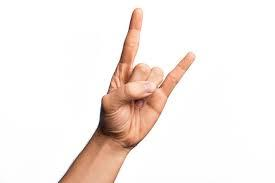Rock: (100, 7, 196, 152)
